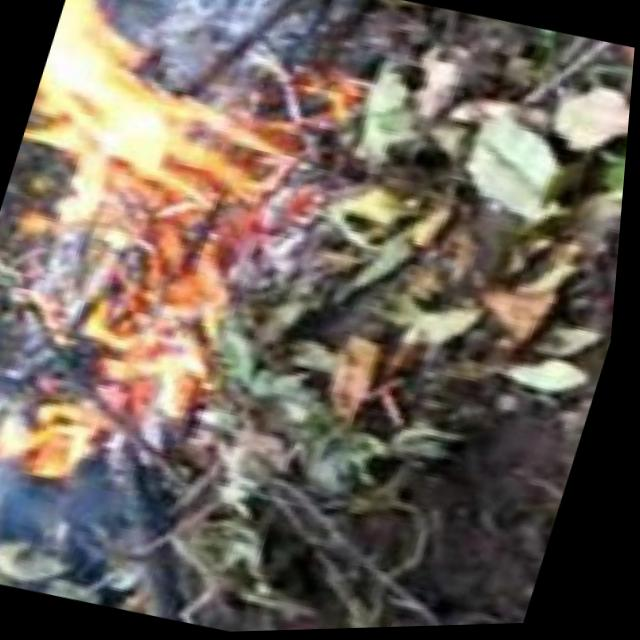Fire: (0, 71, 332, 509), (11, 0, 242, 214)
